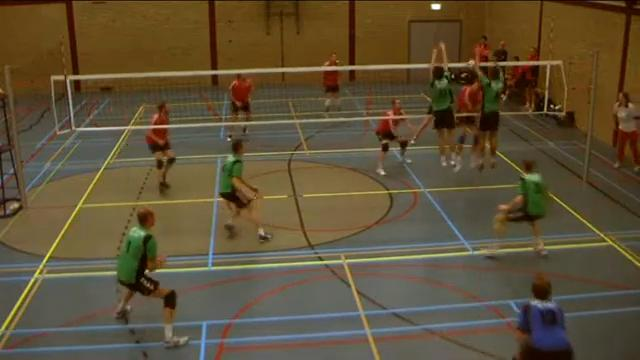Attack: (457, 69, 482, 156)
Block: (422, 38, 460, 167), (468, 43, 505, 172)
Player: (115, 208, 188, 347), (219, 139, 271, 242), (493, 160, 548, 255), (514, 274, 573, 359), (375, 99, 412, 175), (145, 102, 175, 192), (229, 74, 252, 122), (323, 69, 340, 112)
